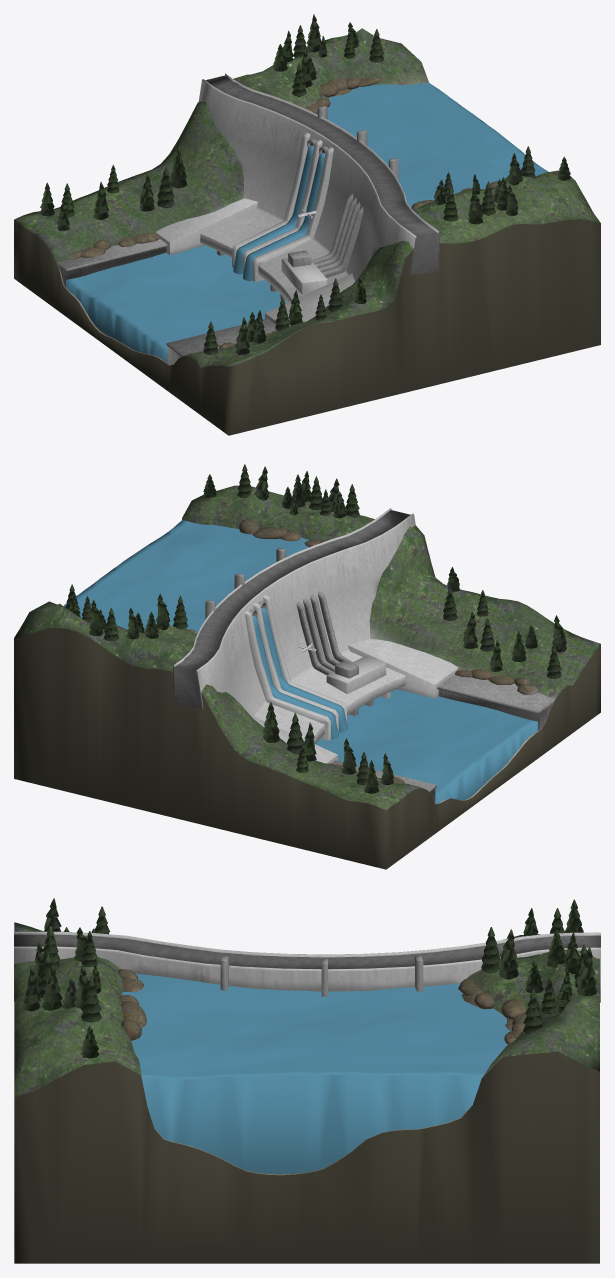
File: Dam Hydroelectric power station Low-poly 3D model.fbx
The picture shows the model from 3 angles, top to bottom: view 1: azimuth 30°, elevation 25°; view 2: azimuth 150°, elevation 25°; view 3: azimuth 270°, elevation 25°; orthographic projection. The views are drawn at different scales.
Visible parts, largest first — view 1: desirefx_me_3, desirefx_me_1, desirefx_me_2; view 2: desirefx_me_3, desirefx_me_1, desirefx_me_2; view 3: desirefx_me_3, desirefx_me_1.
Part boxes in pixels (x1=…): desirefx_me_3: x1=14, y1=14, x2=600, y2=435; desirefx_me_1: x1=66, y1=82, x2=548, y2=362; desirefx_me_2: x1=233, y1=145, x2=325, y2=281; desirefx_me_3: x1=14, y1=464, x2=600, y2=869; desirefx_me_1: x1=63, y1=520, x2=537, y2=803; desirefx_me_2: x1=252, y1=607, x2=347, y2=739; desirefx_me_3: x1=14, y1=898, x2=600, y2=1263; desirefx_me_1: x1=121, y1=973, x2=511, y2=1174.
Bounding box in the file's own units: 999 × 499 × 1000.
3 materials, 3 textured.
